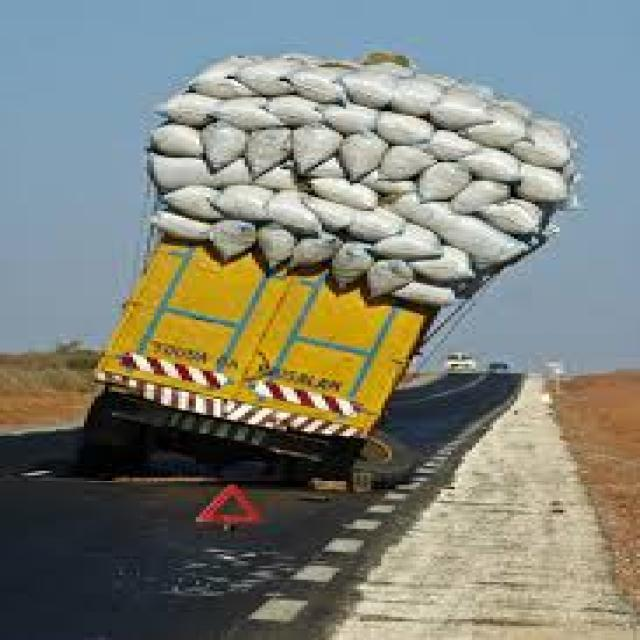uncovered: (89, 46, 570, 494)
